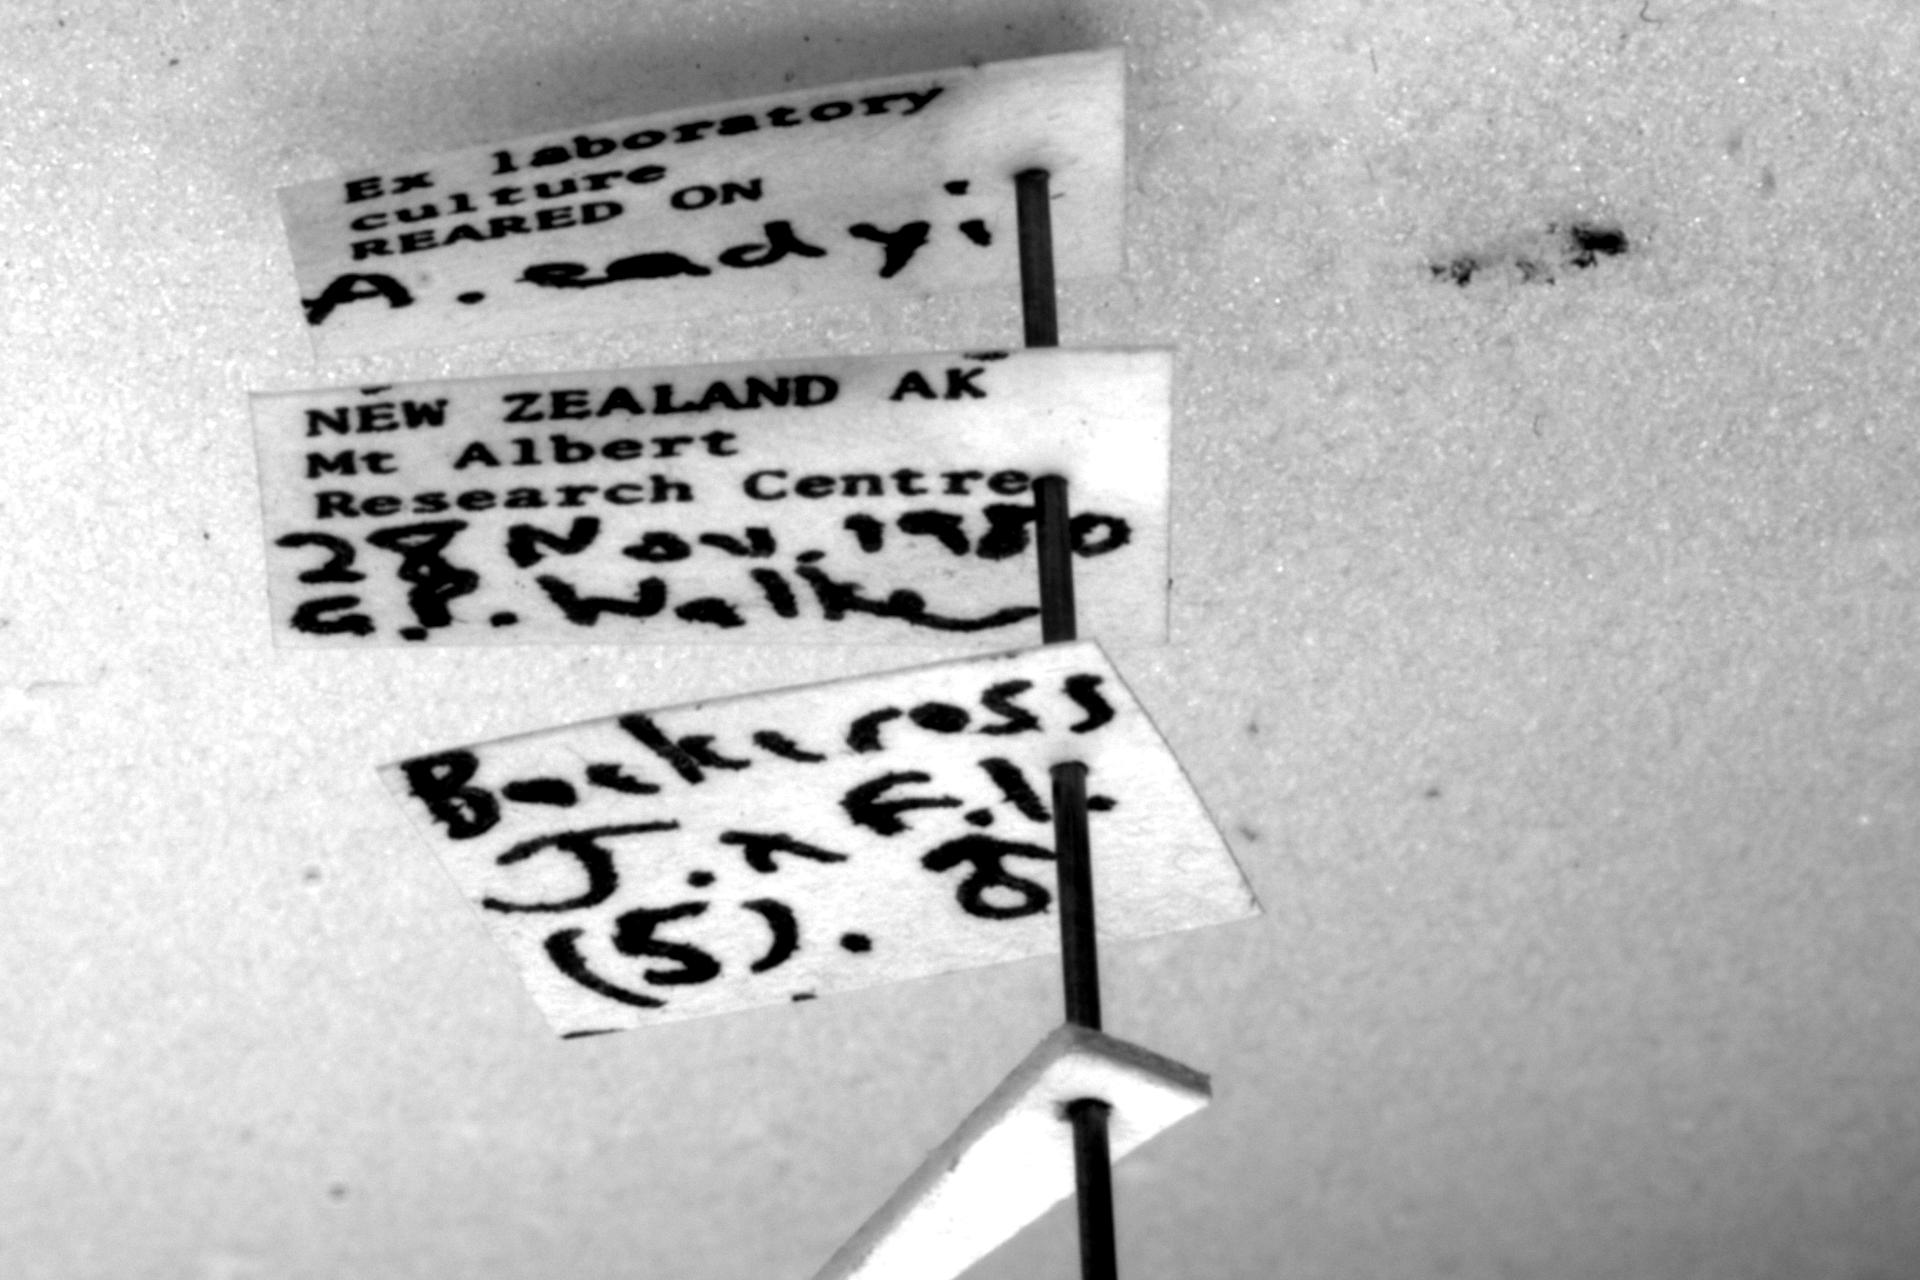hand_label: (379, 641, 1260, 1034)
mixed_label: (244, 354, 1167, 650), (281, 53, 1126, 363)
